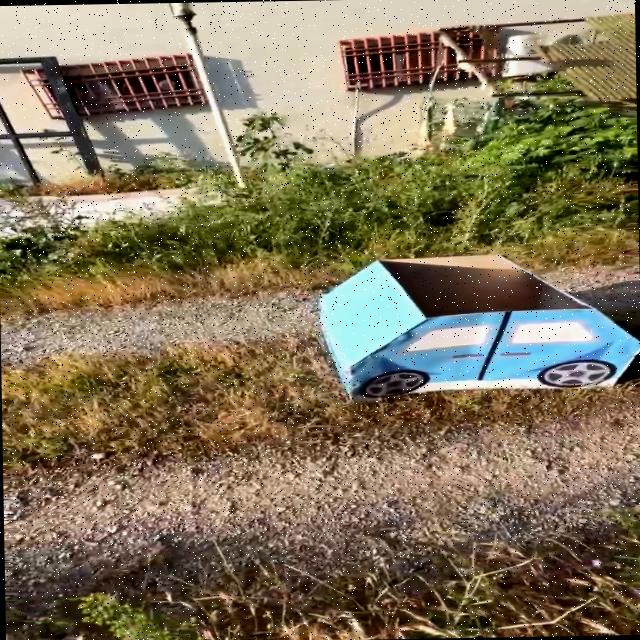blue_car: (293, 233, 640, 430)
